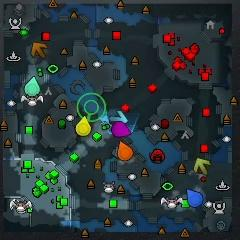p1: (186, 189, 203, 207)
p2: (24, 76, 40, 96)
p3: (111, 122, 130, 137)
p4: (75, 115, 91, 136)
p5: (118, 140, 133, 162)
x2: (193, 157, 211, 175)
x3: (111, 110, 128, 124)
x5: (31, 41, 47, 59)
